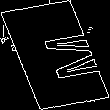M_W: (9, 26, 101, 84)
